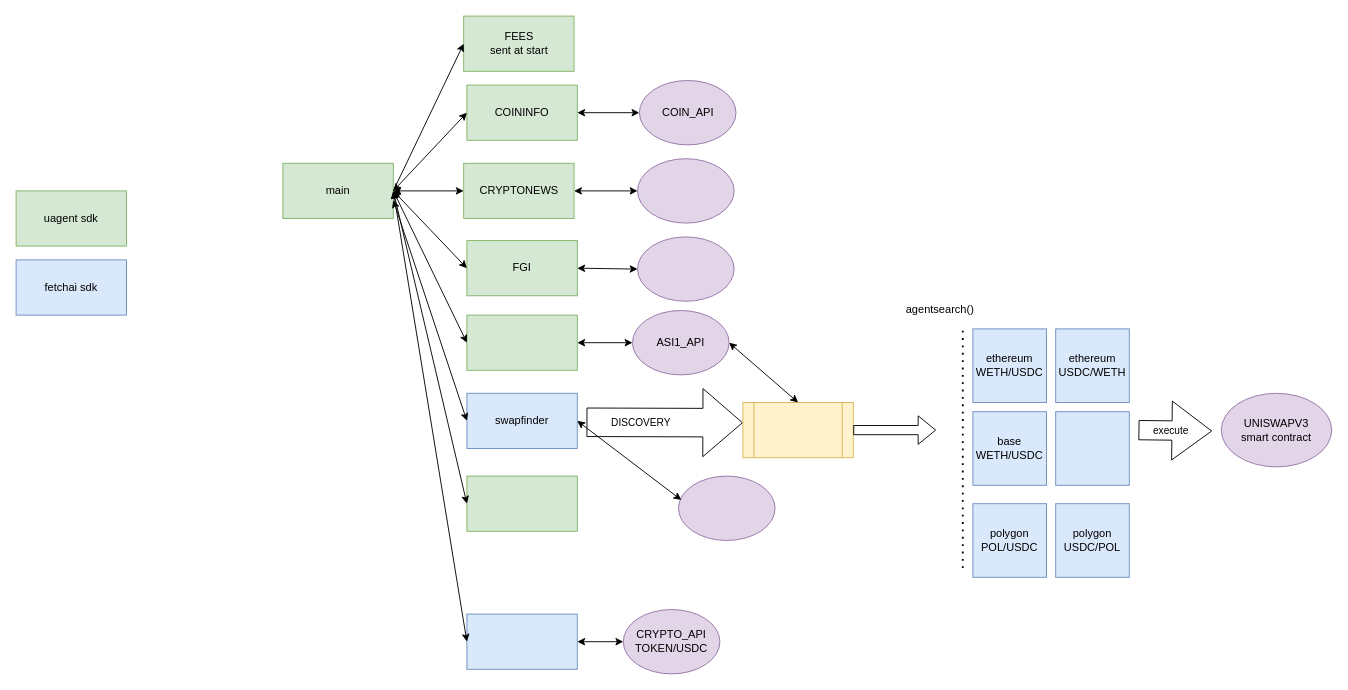
Image size: 1348x690. Some labels were removed from this diagram. Each missing label, with the centre of its shape:
AGENTVERSE_ API: the point at 726,507
base USDC/WETH: the point at 1092,448
dashboard: the point at 521,641
FGI_API: the point at 685,268
llm_swapfinder (query): the point at 797,430
NEWS_API: the point at 685,190
REASON(ASI1): the point at 521,342
REWARD sent upon request, request sends wallet address: the point at 521,503
